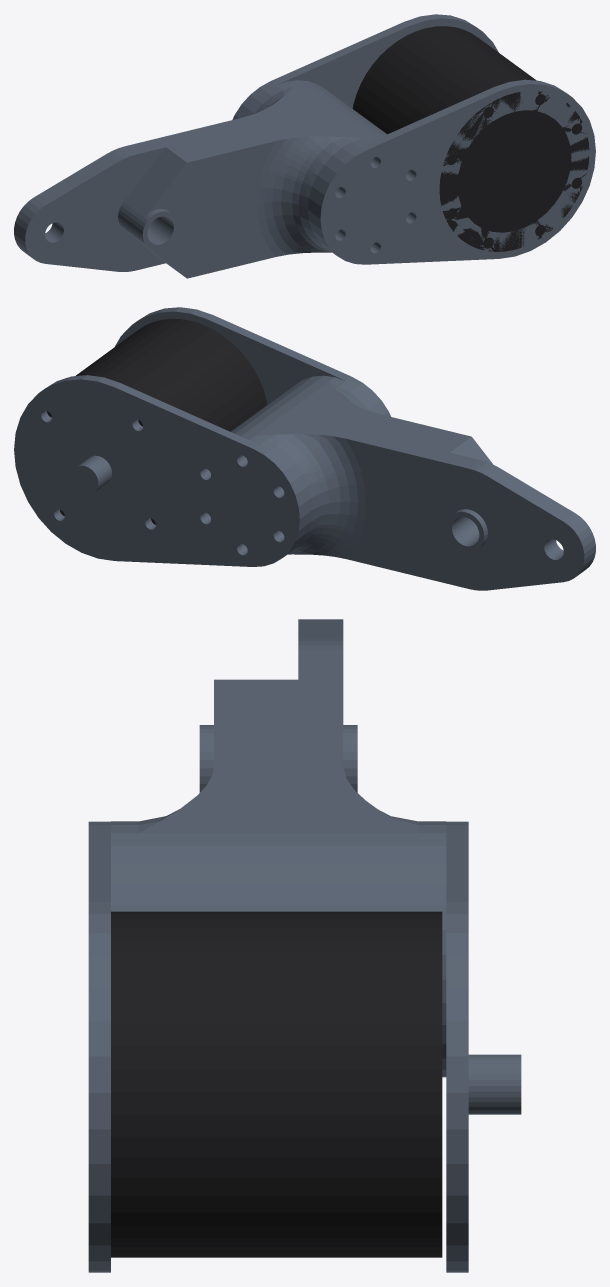
Rendered from shin_L.dae.
The picture shows the model from 3 angles, top to bottom: view 1: azimuth 30°, elevation 25°; view 2: azimuth 150°, elevation 25°; view 3: azimuth 270°, elevation 25°; orthographic projection. The views are drawn at different scales.
Visible parts, largest first — view 1: shin_L-printed, shin_L-motor; view 2: shin_L-printed, shin_L-motor; view 3: shin_L-motor, shin_L-printed.
Part boxes in pixels (x1,y1,x2,y2): shin_L-printed: [14, 14, 595, 278]; shin_L-motor: [352, 26, 589, 251]; shin_L-printed: [14, 307, 595, 590]; shin_L-motor: [47, 318, 267, 524]; shin_L-motor: [111, 911, 442, 1257]; shin_L-printed: [88, 619, 521, 1272].
Bounding box in the file's own units: 0.159 × 0.0575 × 0.05.
